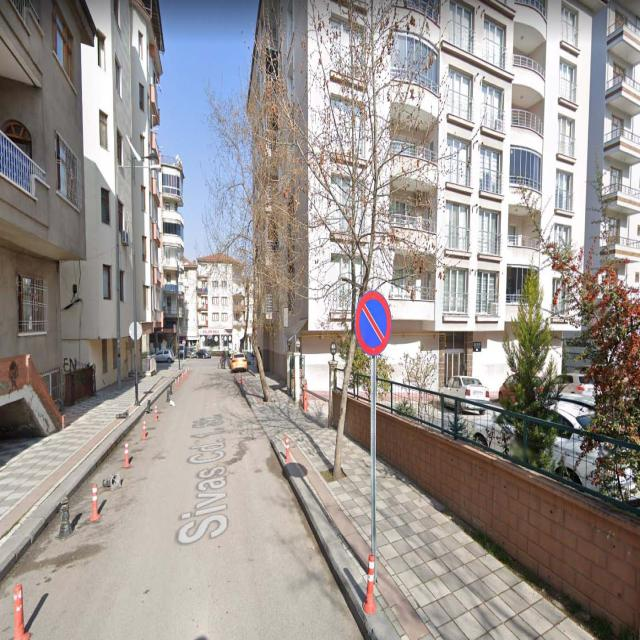parkyasak: (356, 290, 392, 355)
